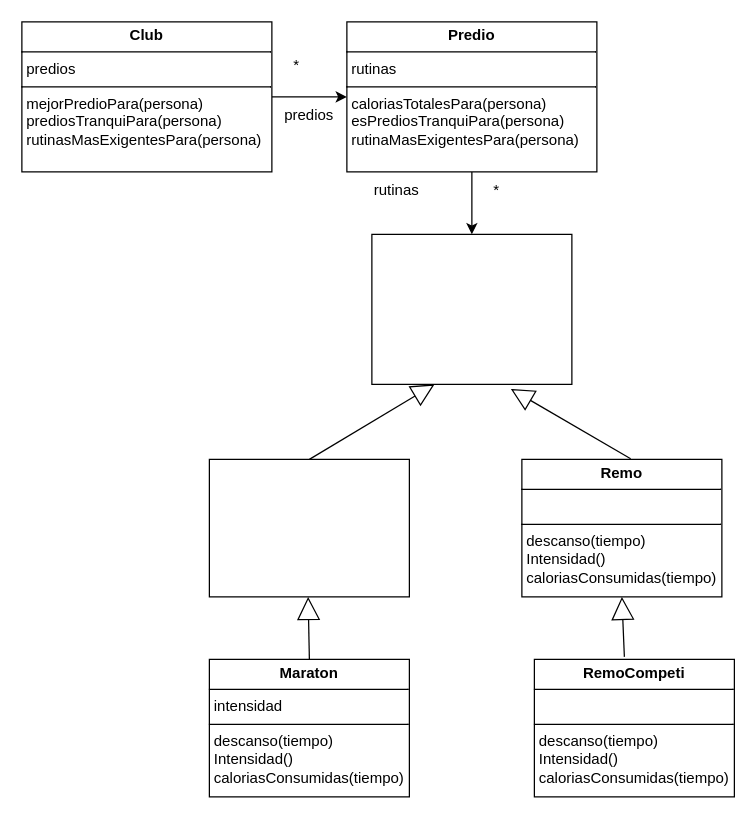
The diagram is 756 pixels wide and 819 high, and some of its shapes have lost their labels. Each missing label, with the box of its shape:
Running intensidad descanso(tiempo) Intensidad() caloriasConsumidas(tiempo): (208, 458, 409, 597)
Rutina descanso(tiempo) Intensidad() caloriasConsumidas(tiempo): (371, 233, 572, 384)
